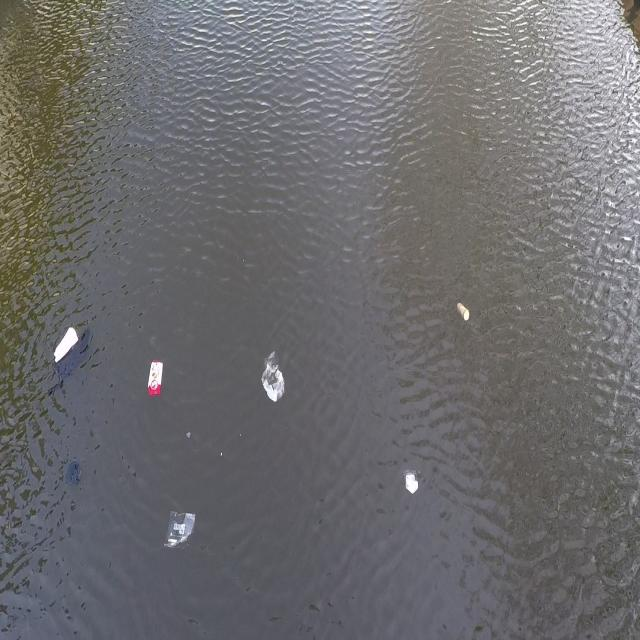Autre plastique: (144, 359, 165, 401)
Non plastique: (456, 300, 470, 326)
